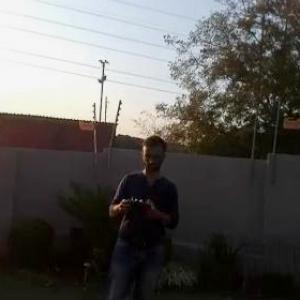follow: (93, 125, 188, 299)
